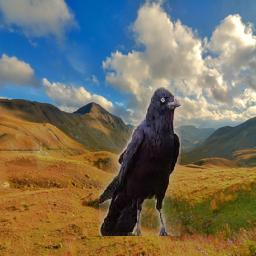Crow: (99, 88, 181, 237)
